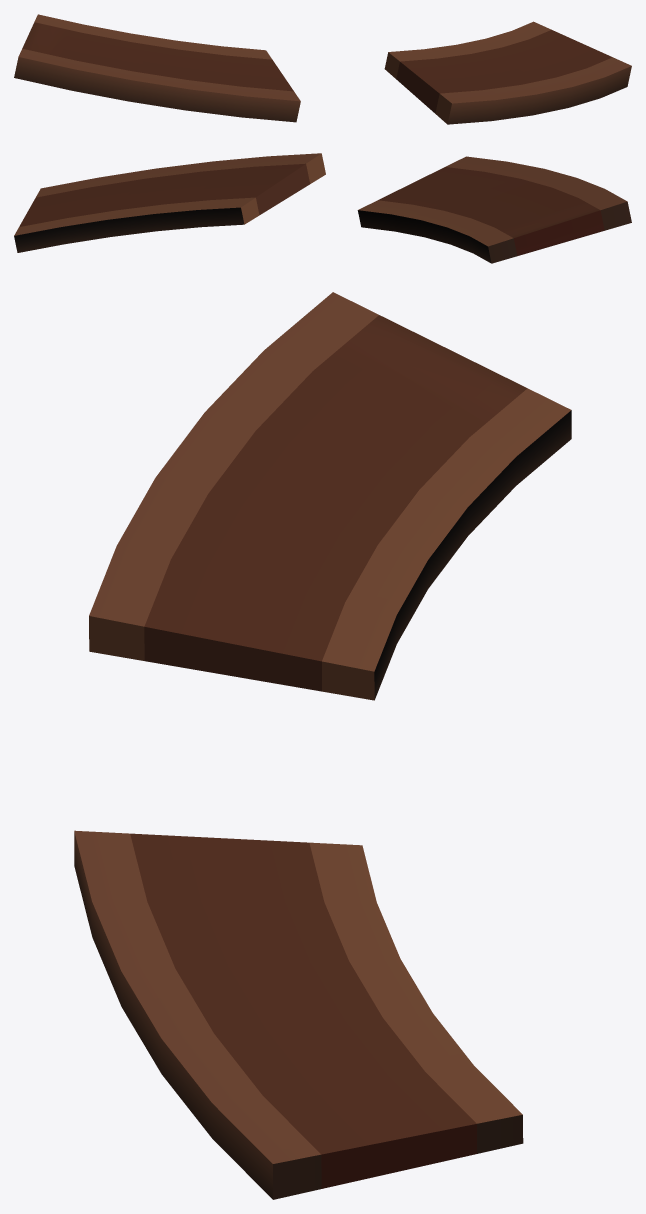
The model's file is cutplatform.fbx.
3 views of the same model, one above another, from view 1: azimuth 30°, elevation 25°; view 2: azimuth 150°, elevation 25°; view 3: azimuth 270°, elevation 25° (orthographic). The views are drawn at different scales.
Parts seen in each view (by area): view 1: Cylinder.020, Cylinder.034; view 2: Cylinder.020, Cylinder.034; view 3: Cylinder.020, Cylinder.034.
Boxes of the visible parts, box(x1,y1,x2,y2) form: Cylinder.020: box(14, 14, 300, 122); Cylinder.034: box(384, 21, 631, 124); Cylinder.020: box(357, 156, 631, 263); Cylinder.034: box(14, 153, 325, 252); Cylinder.020: box(89, 292, 571, 700); Cylinder.034: box(74, 830, 523, 1199).
Bounding box in the file's own units: 91.54 × 23.8 × 32.72.
